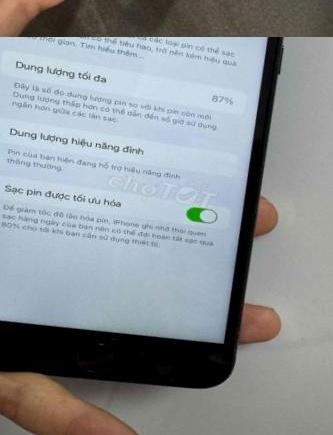scratch: (226, 317, 248, 365)
